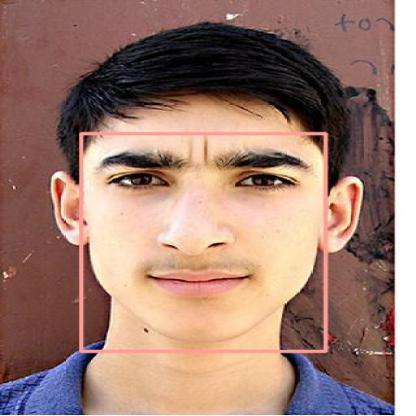without_mask: (81, 133, 325, 351)
